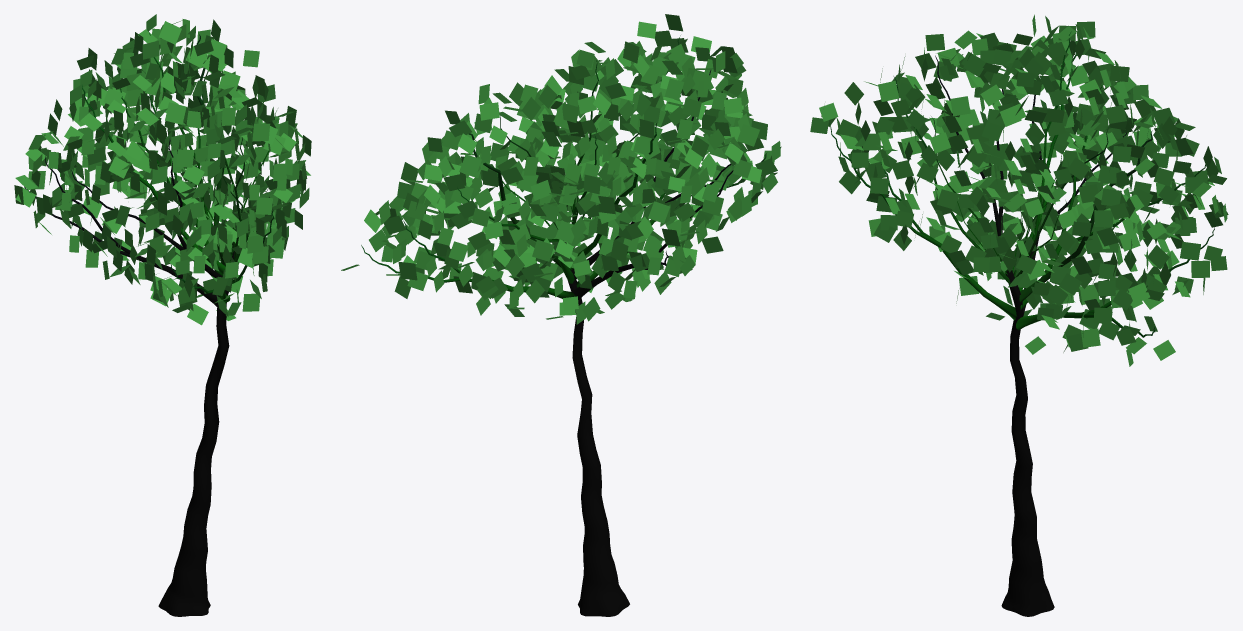
File: tree.fbx
The picture shows the model from 3 angles, left to right: view 1: azimuth 30°, elevation 25°; view 2: azimuth 150°, elevation 25°; view 3: azimuth 270°, elevation 25°; orthographic projection.
Visible parts, largest first — view 1: Tree; view 2: Tree; view 3: Tree.
Boxes of the visible parts, x1,y1,x2,y2 form: Tree: (14, 14, 311, 616); Tree: (341, 14, 781, 616); Tree: (810, 14, 1228, 616).
Size of the model in its own units: 208 by 335 by 220.
